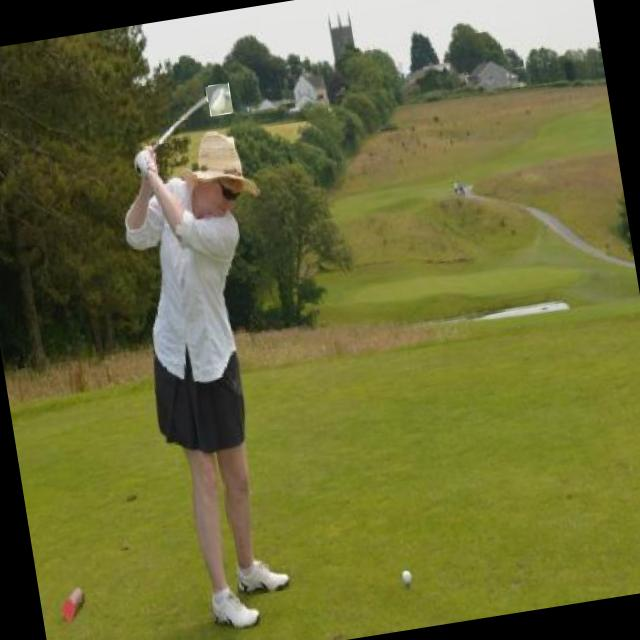club head: (206, 84, 234, 116)
